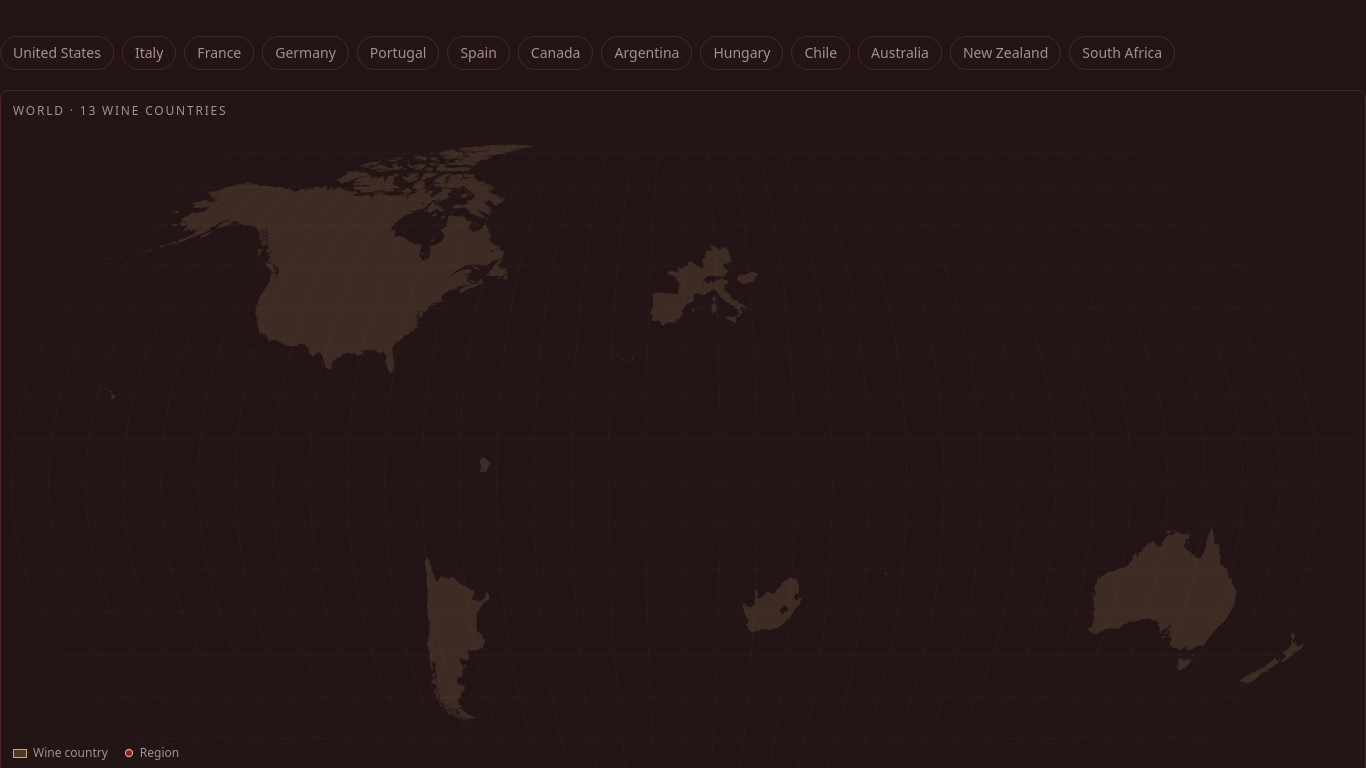
Test: RegionsChapter › goes back to the world
This screenshot has width=1366, height=768.
What coordinates should you click on to do the following:
click the button "Italy"
I would click on:
 (149, 53)
Its box is [122,36,176,70].
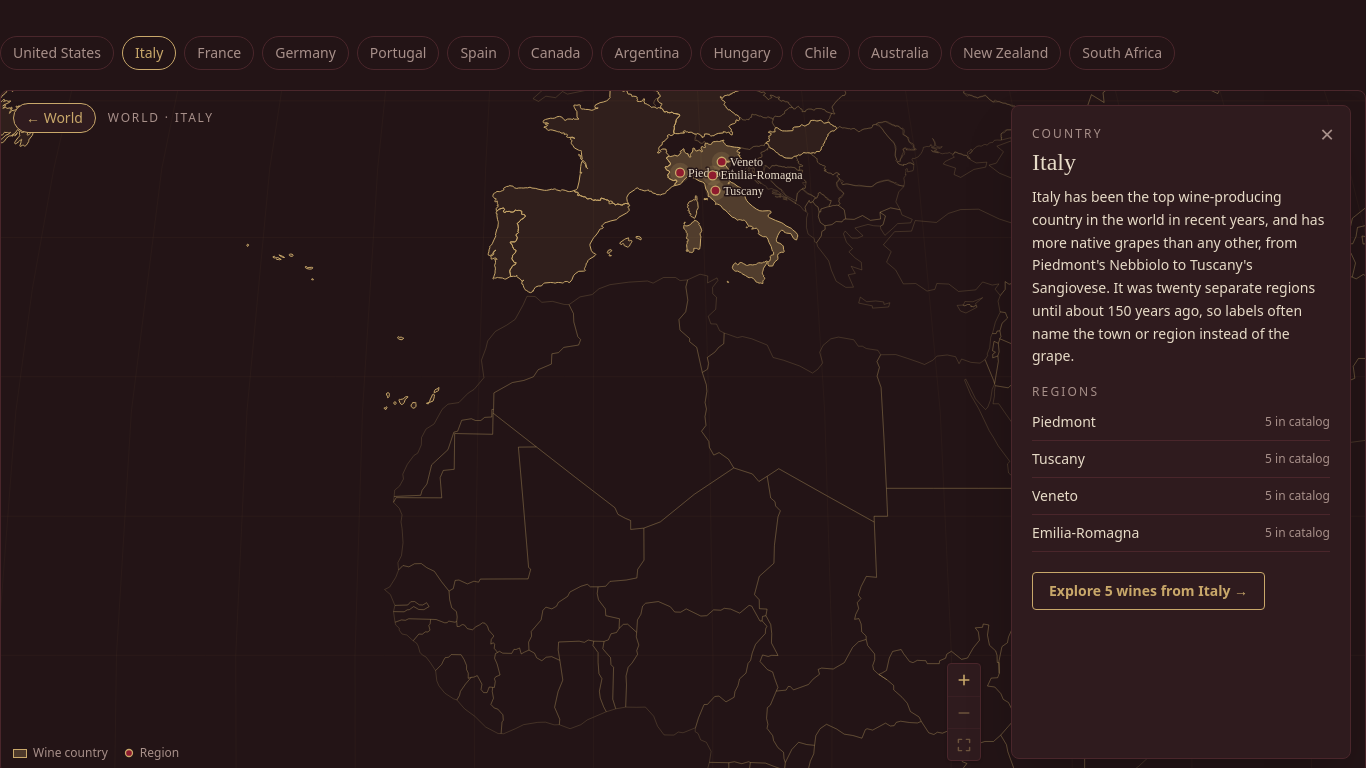
What coordinates should you click on to do the following:
click the button "← World"
I would click on:
 (54, 118)
Its box is [13,103,96,133].
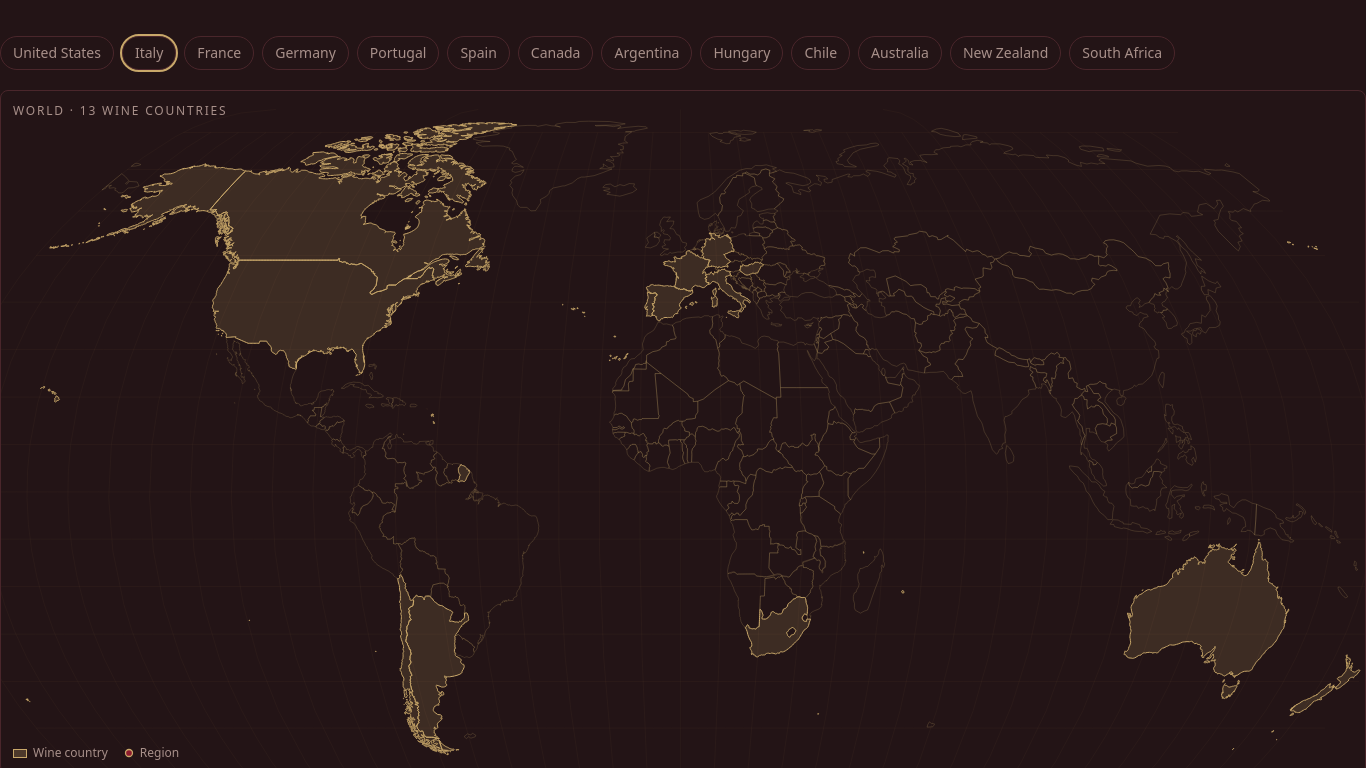
Now the text with test id "map-breadcrumb" reads "World · 13 wine countries", box [13,102,228,119]
